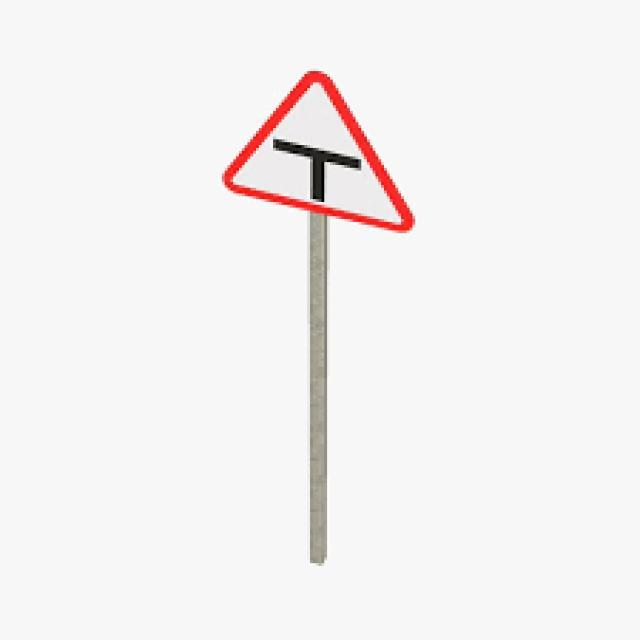t intersection: (212, 66, 418, 245)
